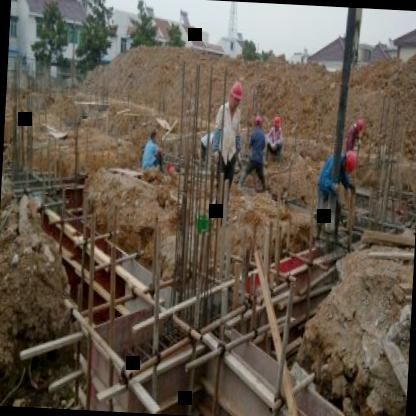helmet: (226, 80, 244, 114), (340, 149, 358, 175), (352, 114, 366, 136), (271, 110, 282, 136)
